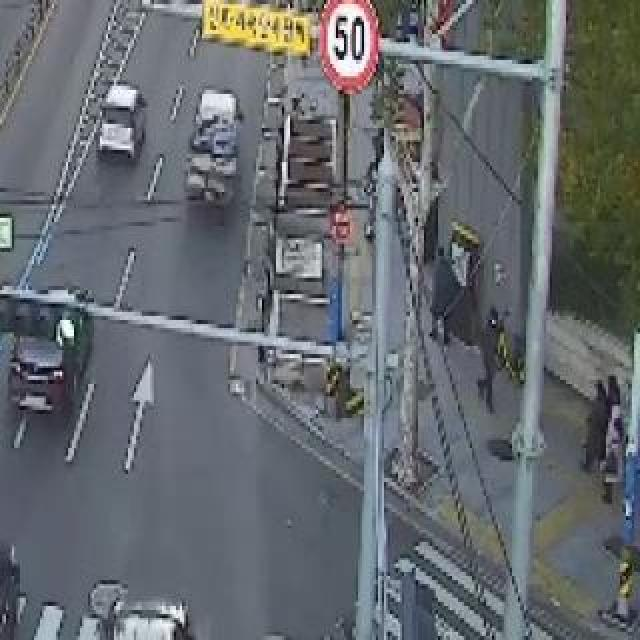truck: (184, 72, 244, 224)
